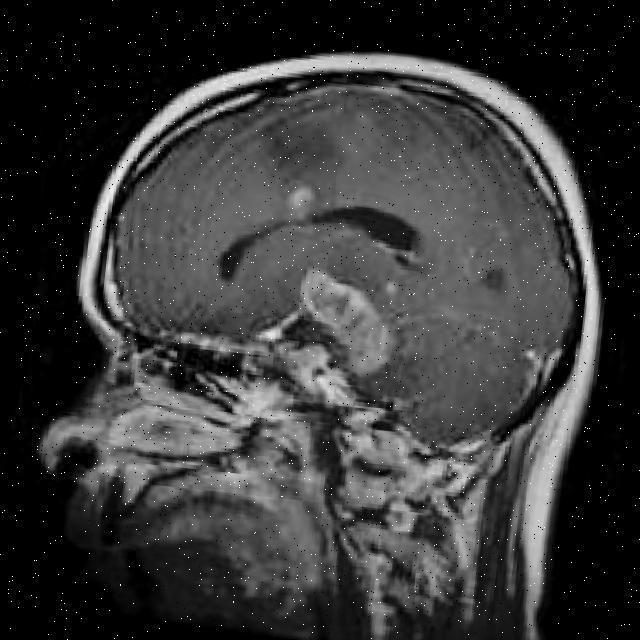MCI: (257, 300, 407, 390)
